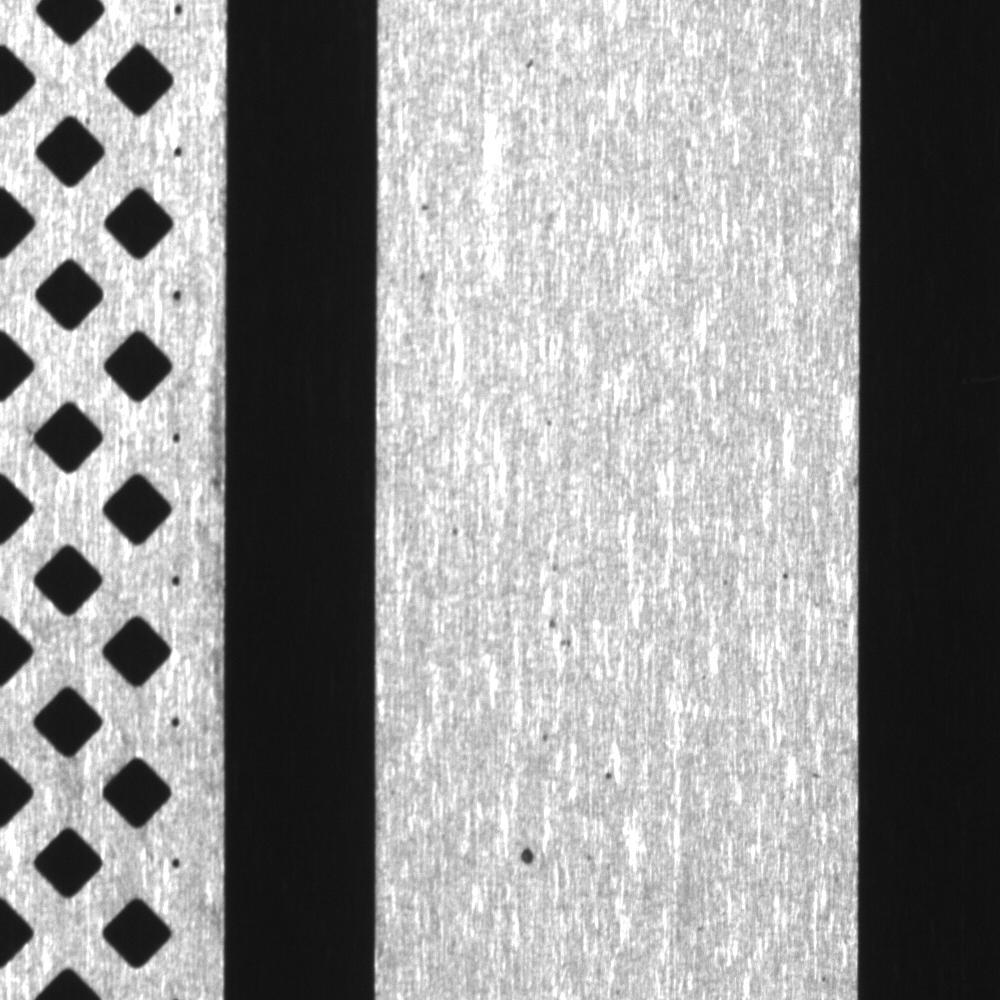Etching: (534, 597, 603, 669), (507, 829, 557, 883), (518, 48, 548, 80)
Pinhole: (593, 756, 629, 796), (526, 715, 560, 754), (408, 185, 442, 222), (770, 554, 804, 589), (438, 515, 464, 547), (539, 411, 562, 438), (546, 555, 565, 579), (667, 185, 685, 206)
